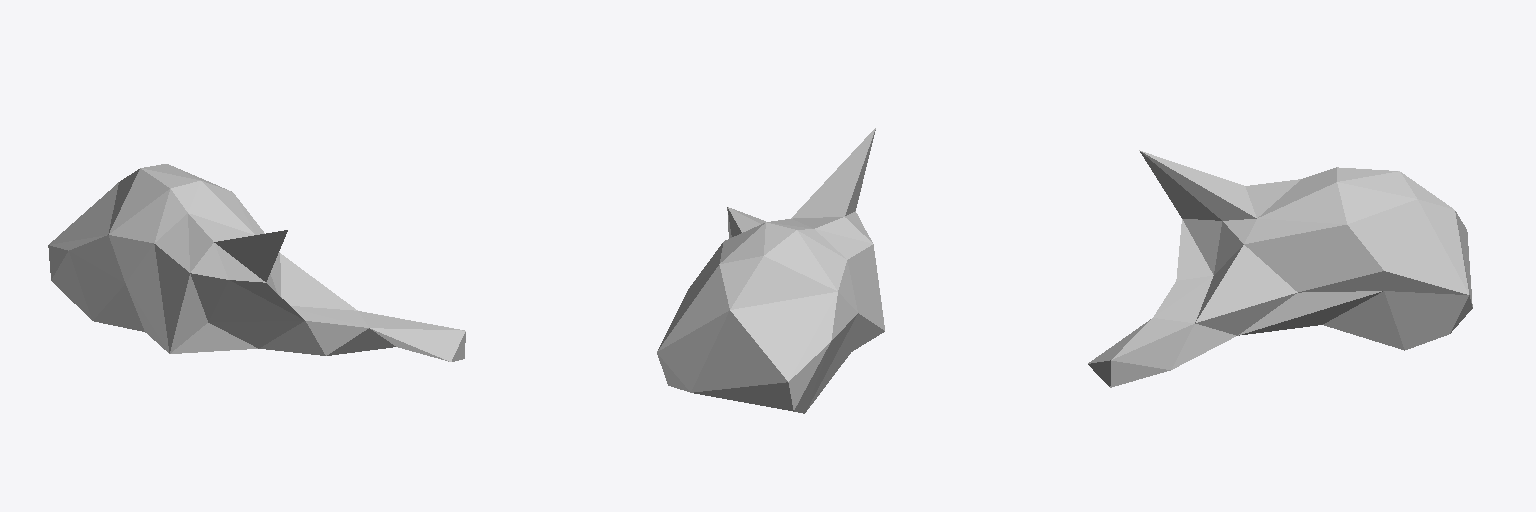
The model's file is sim_ecub_1-1_r_hand_index_1.obj.
3 renders of one model, left to right at view 1: azimuth 30°, elevation 25°; view 2: azimuth 150°, elevation 25°; view 3: azimuth 270°, elevation 25°, orthographic.
Bounding box in the file's own units: 37.4 × 24.85 × 49.83.